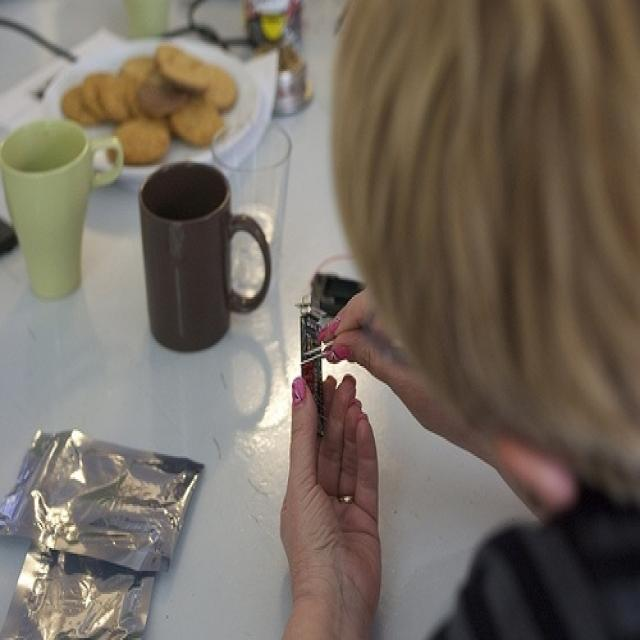Glass: (130, 120, 302, 360), (4, 116, 123, 297)
